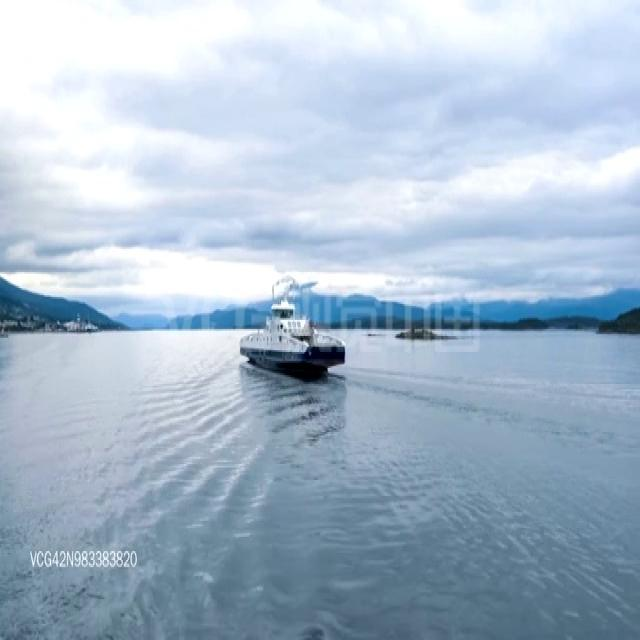houseboat: (238, 292, 344, 379)
